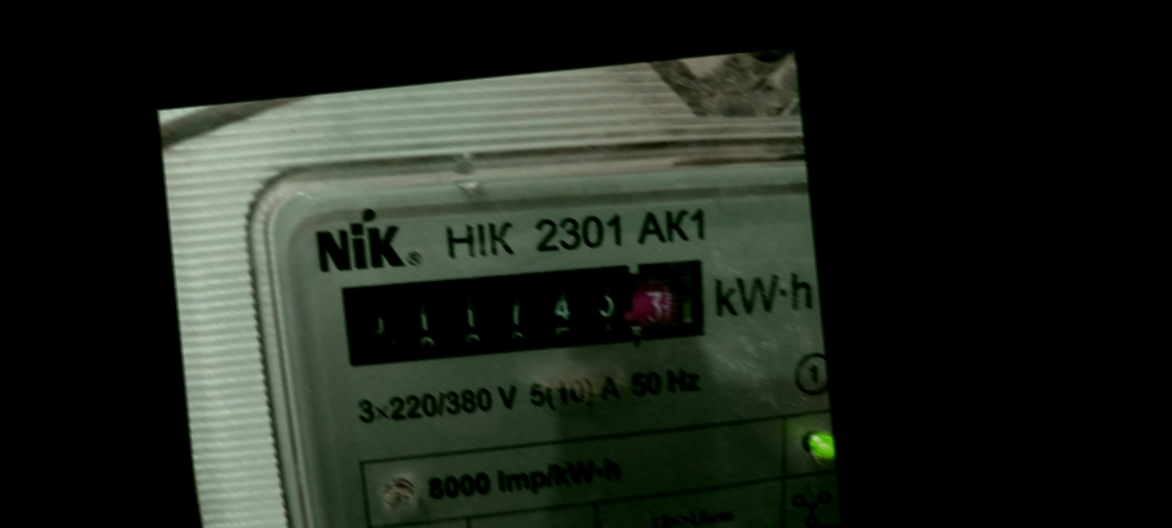0: (363, 296, 388, 337), (412, 290, 434, 333)
1: (459, 287, 479, 329)
3: (594, 276, 618, 321), (643, 285, 666, 324)
4: (549, 281, 573, 322)
7: (502, 282, 529, 328)
screen: (321, 237, 718, 382)
